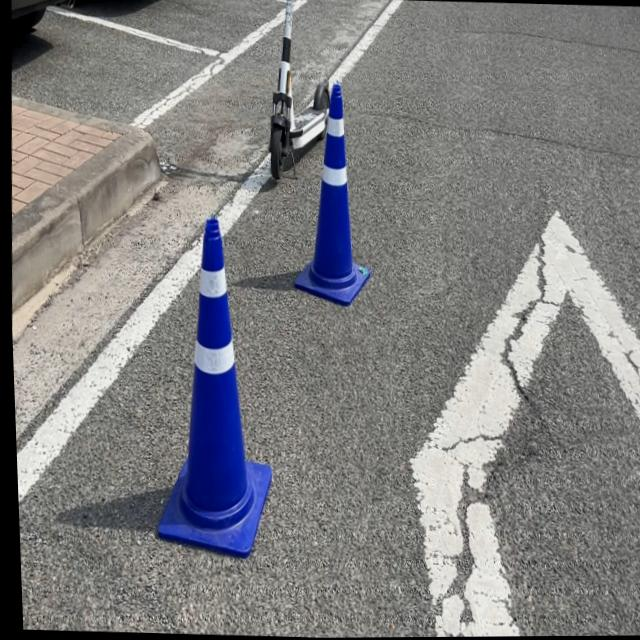b_rub: (153, 217, 267, 557), (292, 81, 369, 305)
